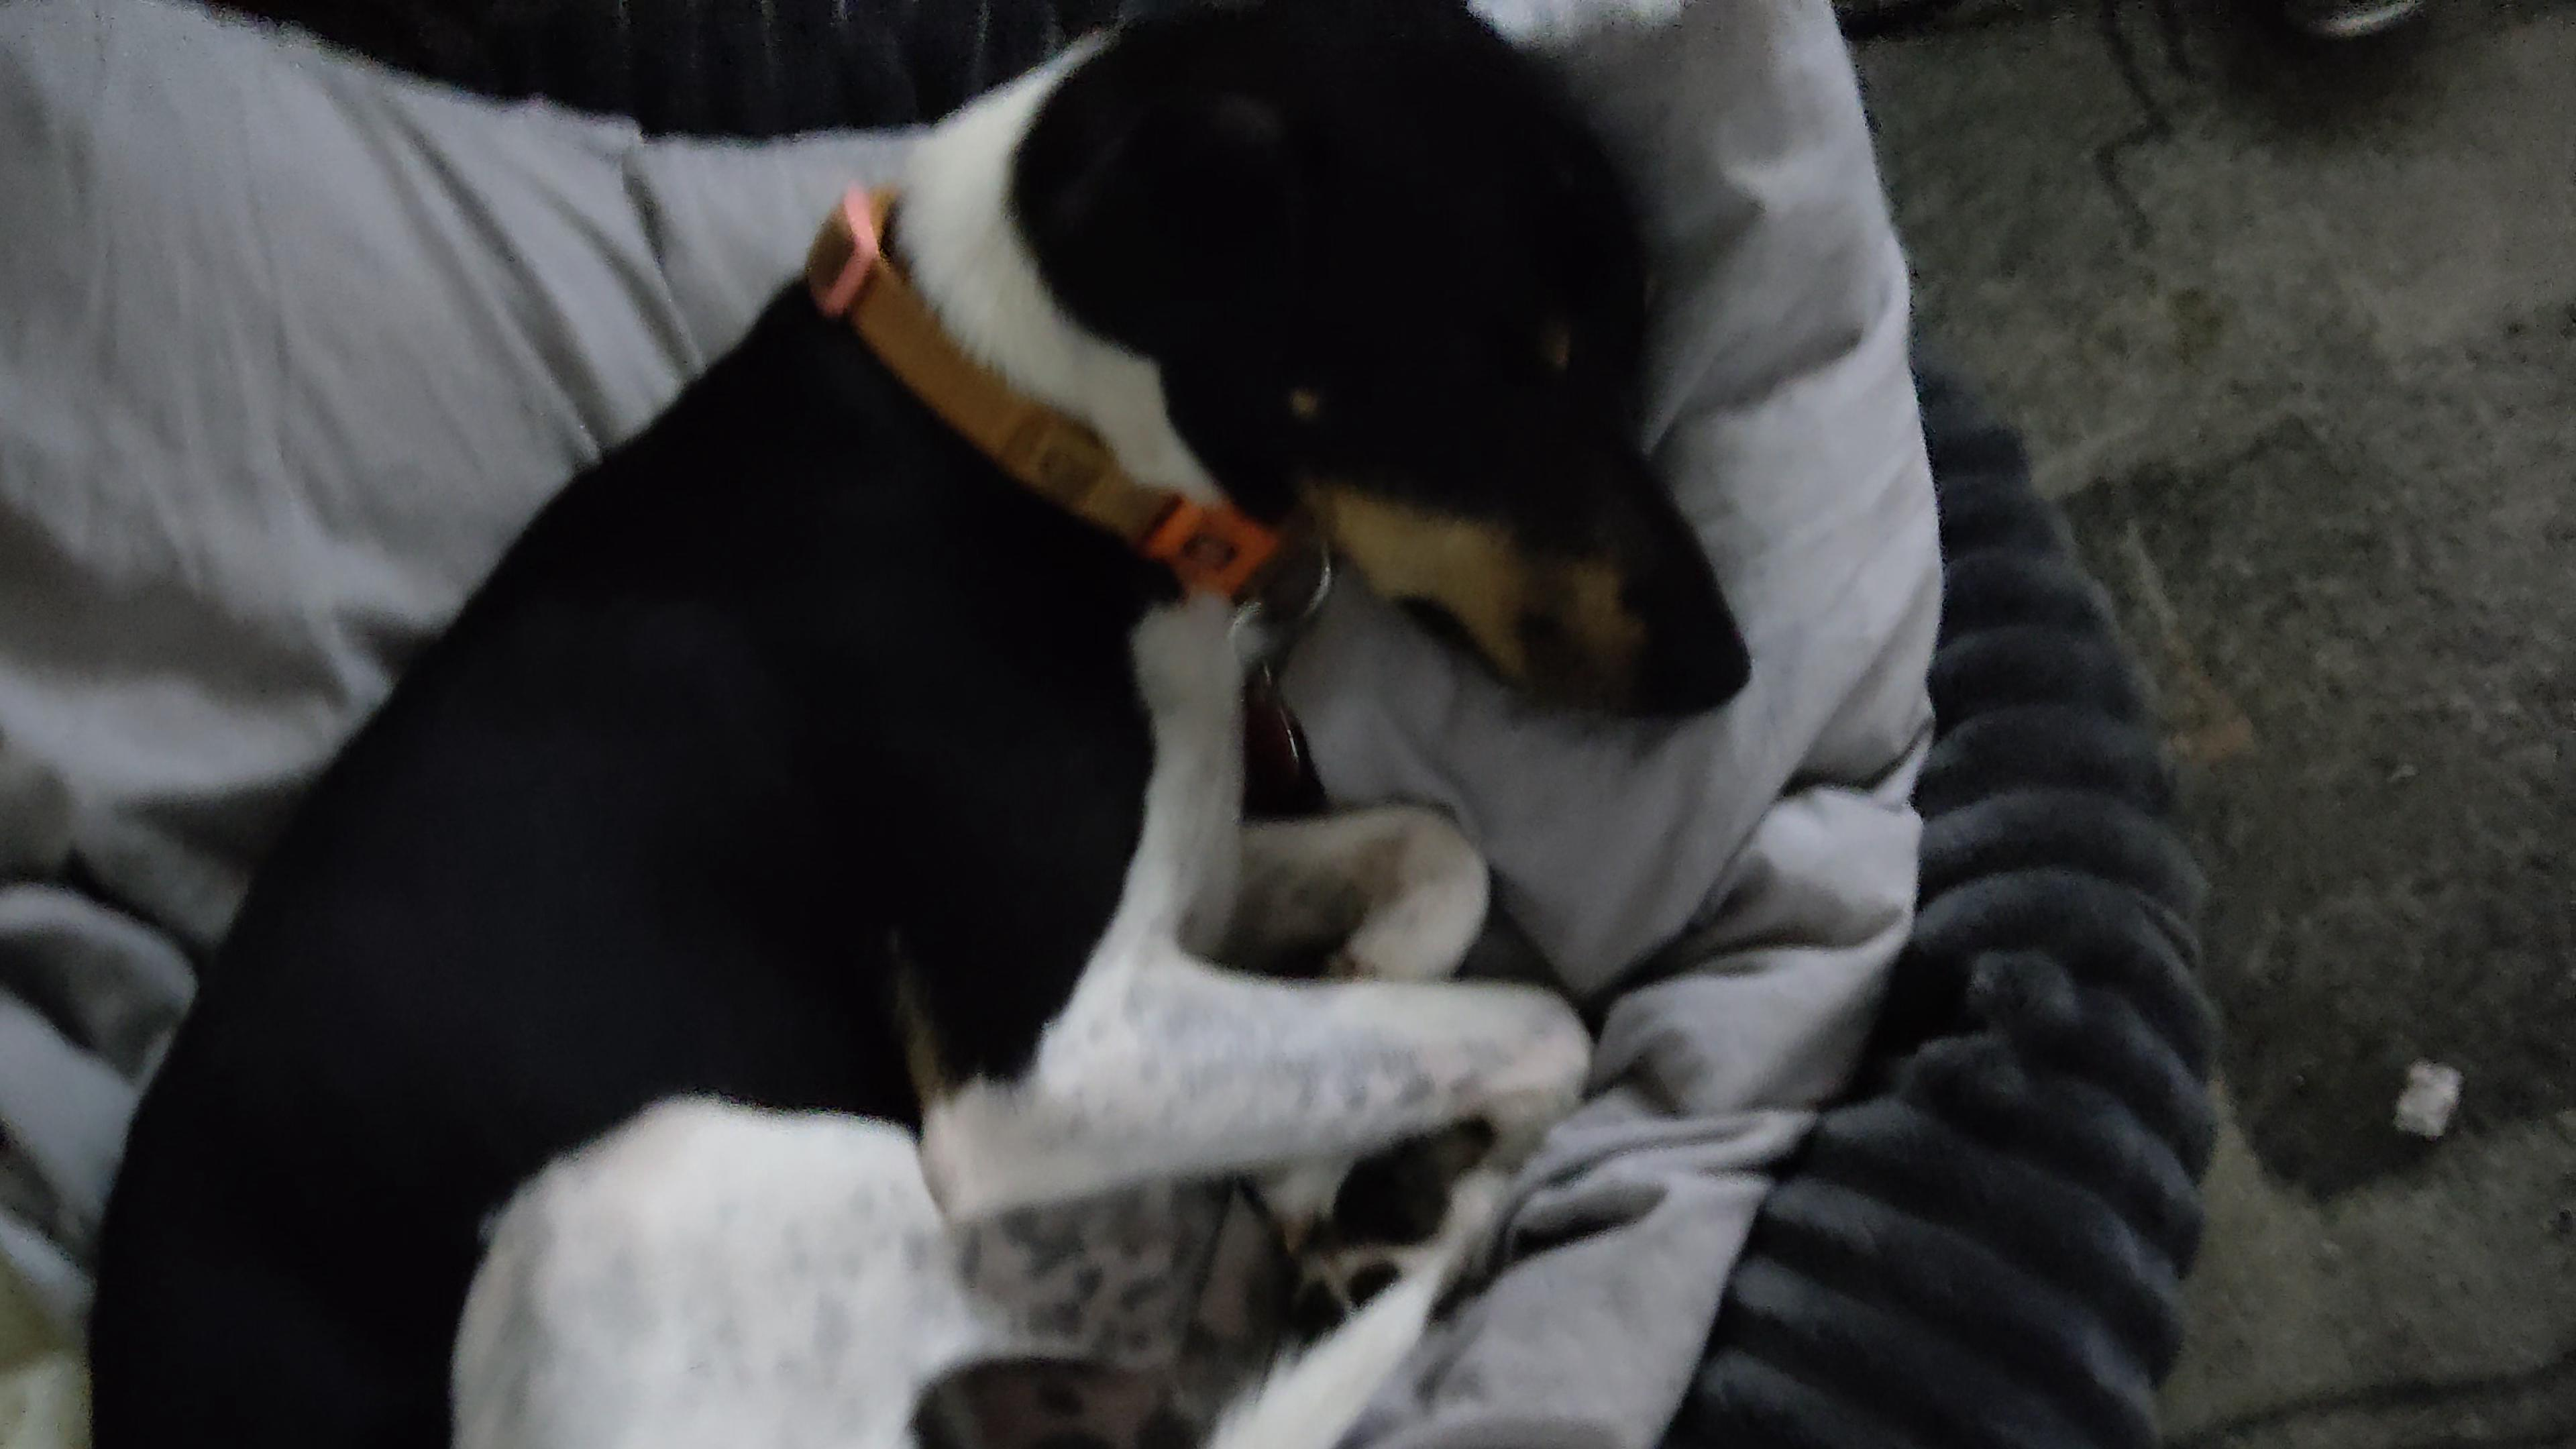Dog: (64, 0, 1782, 1449)
